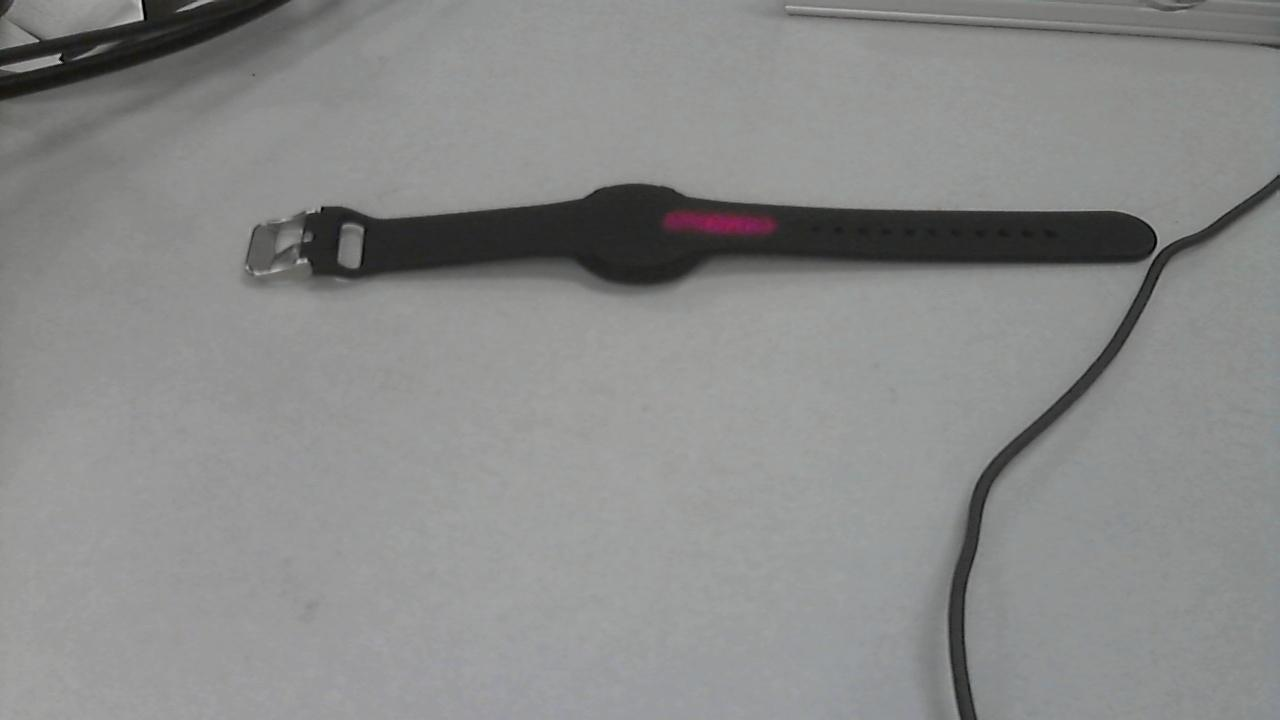Object graphing calculator slide case - Material plastic - Pdfname as1D2765rACT: (658, 208, 788, 243)
